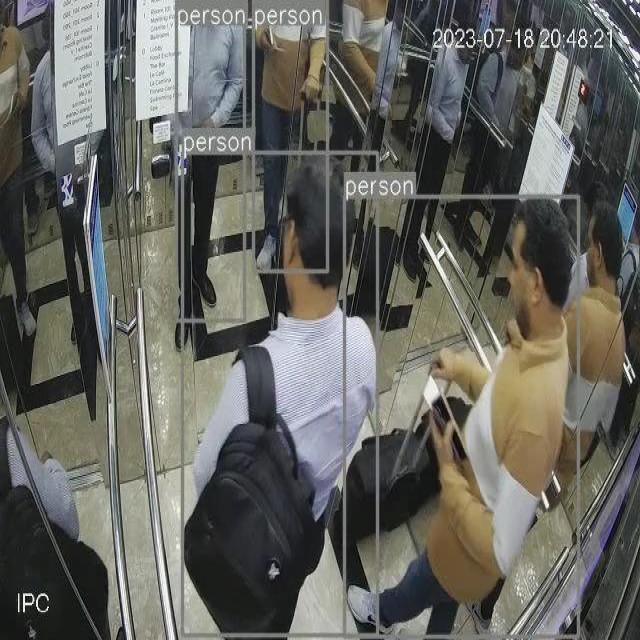person: (339, 196, 580, 627), (187, 152, 377, 640), (0, 257, 116, 640), (179, 8, 244, 359), (252, 0, 325, 269)
